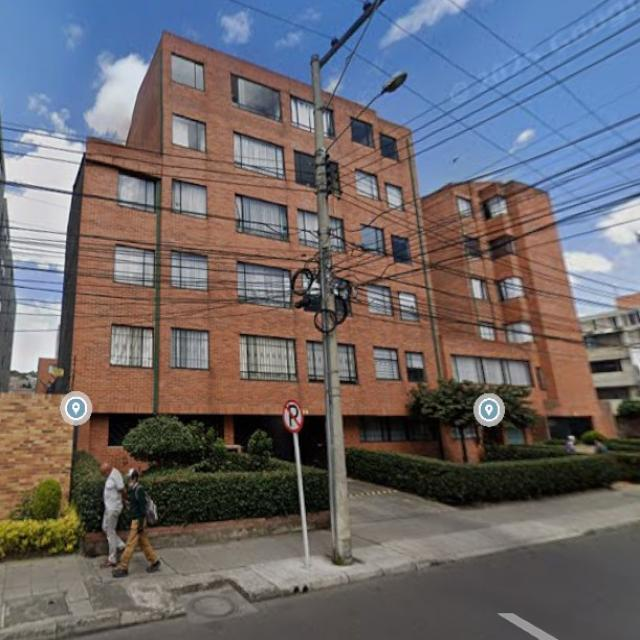Fachada: (57, 33, 325, 463), (324, 92, 611, 462)
Poste: (311, 0, 383, 565), (378, 73, 406, 94)
